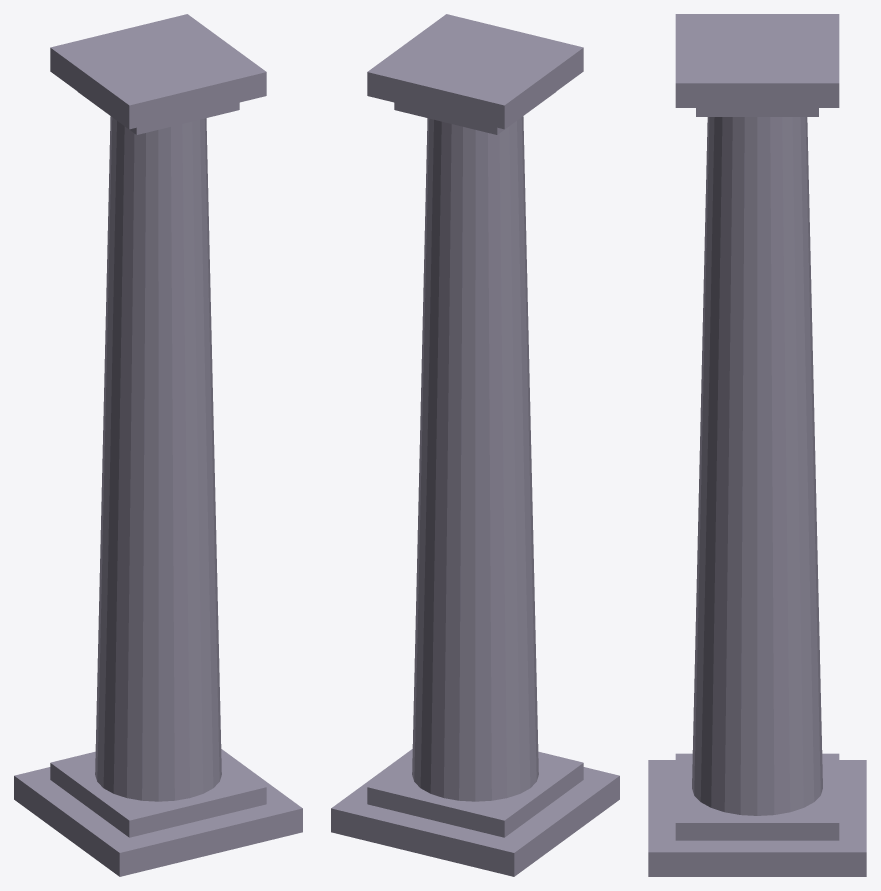
The model's file is column.obj.
3 views of the same model, side by side, from view 1: azimuth 30°, elevation 25°; view 2: azimuth 150°, elevation 25°; view 3: azimuth 270°, elevation 25° (orthographic). The views are drawn at different scales.
Parts seen in each view (by area): view 1: Cube.003_Cube.001; view 2: Cube.003_Cube.001; view 3: Cube.003_Cube.001.
Boxes of the visible parts, x1=… form: Cube.003_Cube.001: x1=14, y1=14, x2=302, y2=876; Cube.003_Cube.001: x1=331, y1=14, x2=619, y2=876; Cube.003_Cube.001: x1=648, y1=14, x2=866, y2=876.
Size of the model in its own units: 0.2 by 0.7896 by 0.2.
